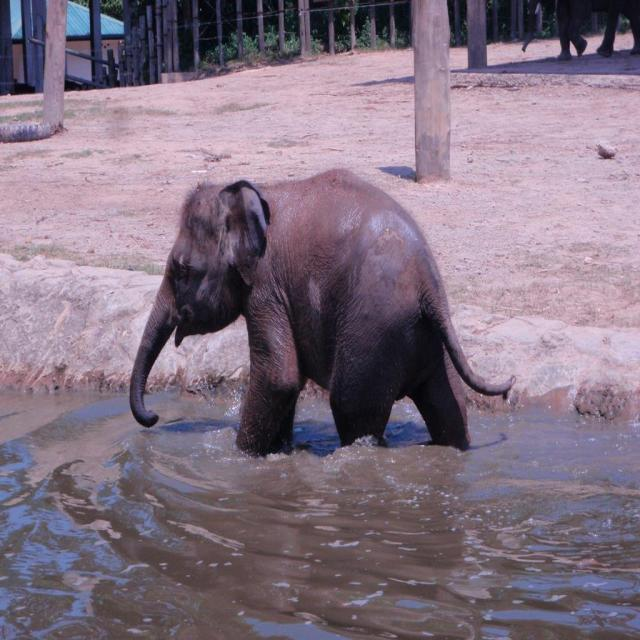elephant: (125, 168, 520, 458)
